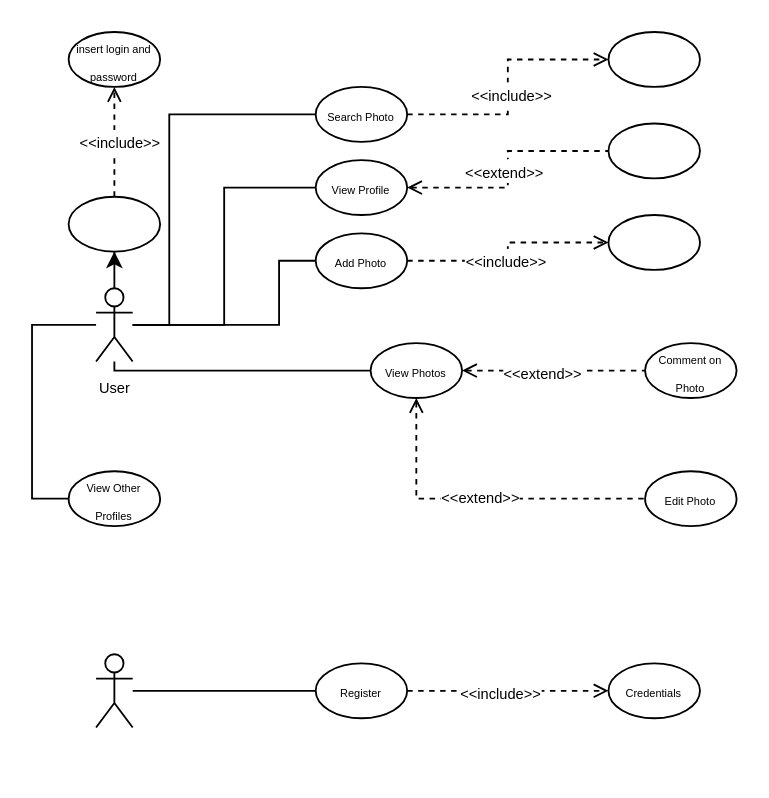
Image size: 769x798. Some labels were removed from this diagram. The box of each missing label's shape, as (x1, y1, x2, y2) in pixels:
Edit Profile: (607, 122, 700, 178)
Insert Description: (607, 213, 700, 270)
login: (67, 195, 160, 252)
Search with Tag: (607, 30, 700, 87)
Unregistered User: (94, 652, 133, 727)
